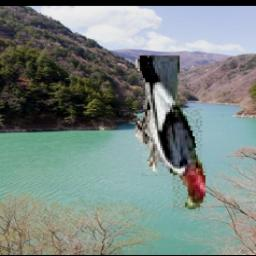Woodpecker: (136, 55, 207, 211)
